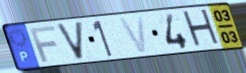1: (91, 19, 114, 58)
4: (164, 12, 189, 51)
F: (28, 25, 59, 64)
H: (180, 7, 223, 50)
V: (116, 15, 149, 55), (54, 20, 85, 62)
